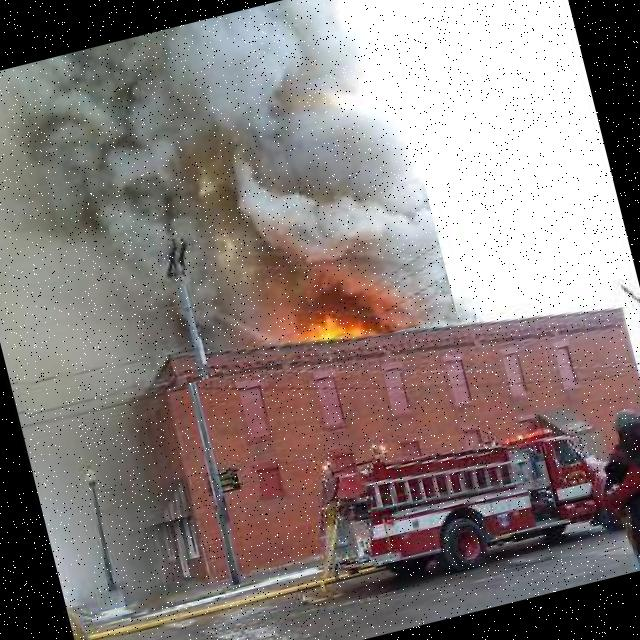fire: (0, 0, 457, 423)
